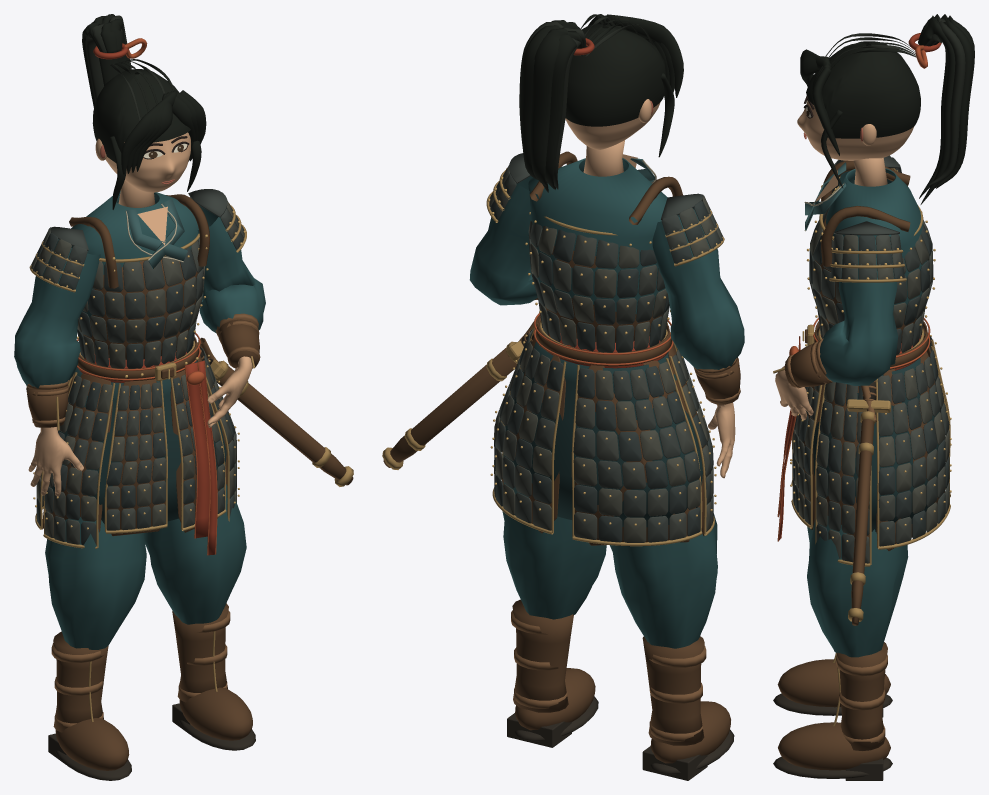
File: female-light-armour-static.glb
The picture shows the model from 3 angles, left to right: view 1: azimuth 30°, elevation 25°; view 2: azimuth 150°, elevation 25°; view 3: azimuth 270°, elevation 25°; orthographic projection. The views are drawn at different scales.
Parts seen in each view (by area): view 1: 03 Cloth and boots, 04 Lamellar armour, 02 Face and hair, 05 Belt and sword, 06 Sword, 01 Body and posing rig; view 2: 03 Cloth and boots, 04 Lamellar armour, 02 Face and hair, 06 Sword, 05 Belt and sword, 01 Body and posing rig; view 3: 04 Lamellar armour, 03 Cloth and boots, 02 Face and hair, 06 Sword, 05 Belt and sword, 01 Body and posing rig.
Boxes of the visible parts, x1,y1,x2,y2 form: 03 Cloth and boots: (14, 191, 265, 780); 04 Lamellar armour: (26, 189, 260, 548); 02 Face and hair: (82, 14, 206, 209); 05 Belt and sword: (76, 332, 219, 555); 06 Sword: (197, 342, 353, 486); 01 Body and posing rig: (28, 356, 252, 496); 03 Cloth and boots: (469, 154, 744, 780); 04 Lamellar armour: (486, 151, 740, 546); 02 Face and hair: (519, 14, 683, 192); 06 Sword: (382, 324, 537, 469); 05 Belt and sword: (506, 313, 673, 368); 01 Body and posing rig: (708, 402, 735, 478); 04 Lamellar armour: (773, 155, 951, 566); 03 Cloth and boots: (773, 162, 940, 780); 02 Face and hair: (797, 14, 974, 204); 06 Sword: (846, 380, 891, 625); 05 Belt and sword: (777, 317, 930, 541); 01 Body and posing rig: (775, 365, 813, 420).
Size of the model in its own units: 0.8744 by 1.73 by 0.4379.
